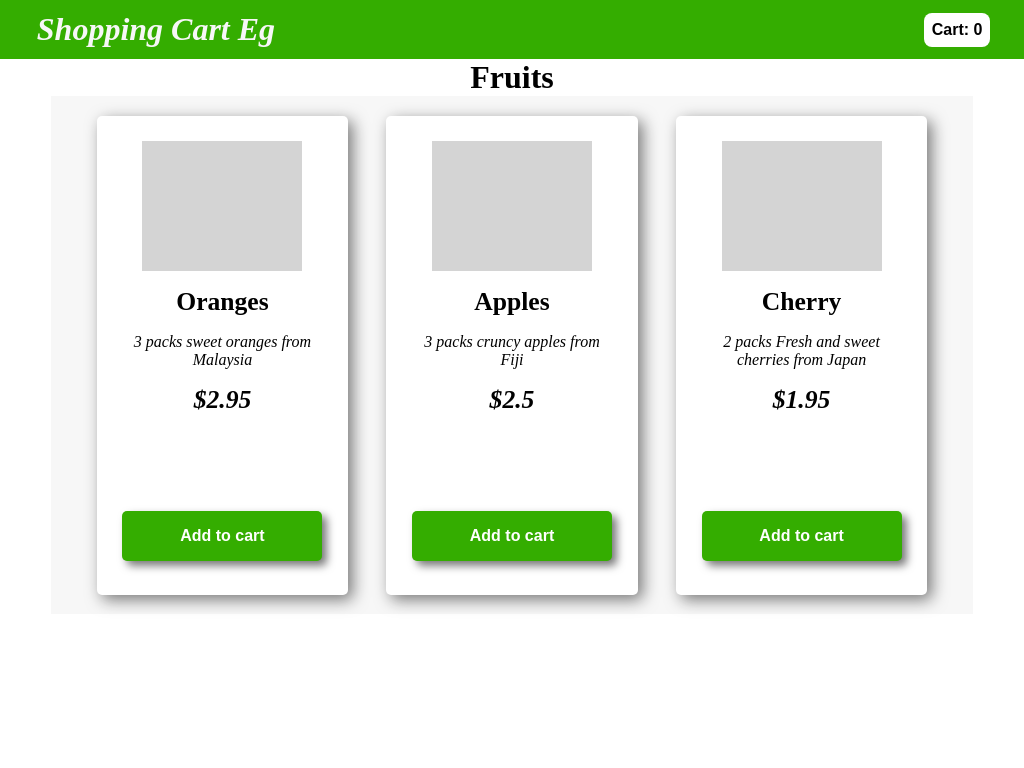
Scenario: cart number increase when add to cart
This screenshot has width=1024, height=768.
Click the button "Add to cart" below "$2.95": (222, 536) x1=122 y1=511 x2=322 y2=561
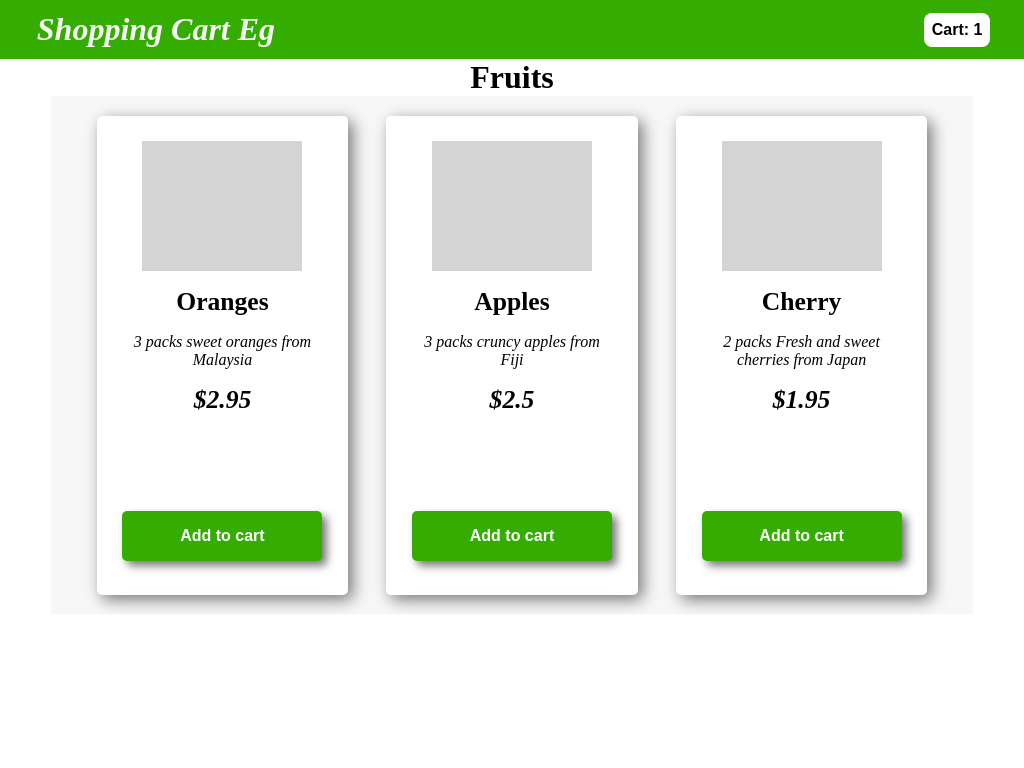
Click the button "Add to cart" below "$1.95": (802, 536) x1=702 y1=511 x2=902 y2=561
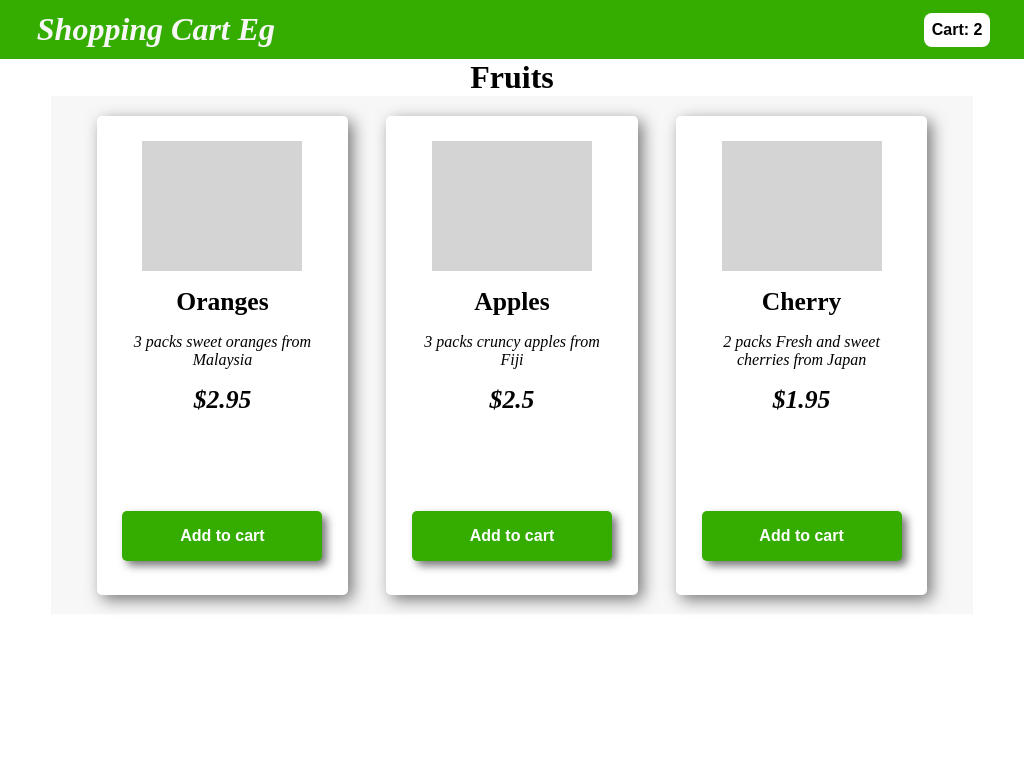
Expected: the button "Cart: 2" is shown, x1=924 y1=13 x2=990 y2=47
